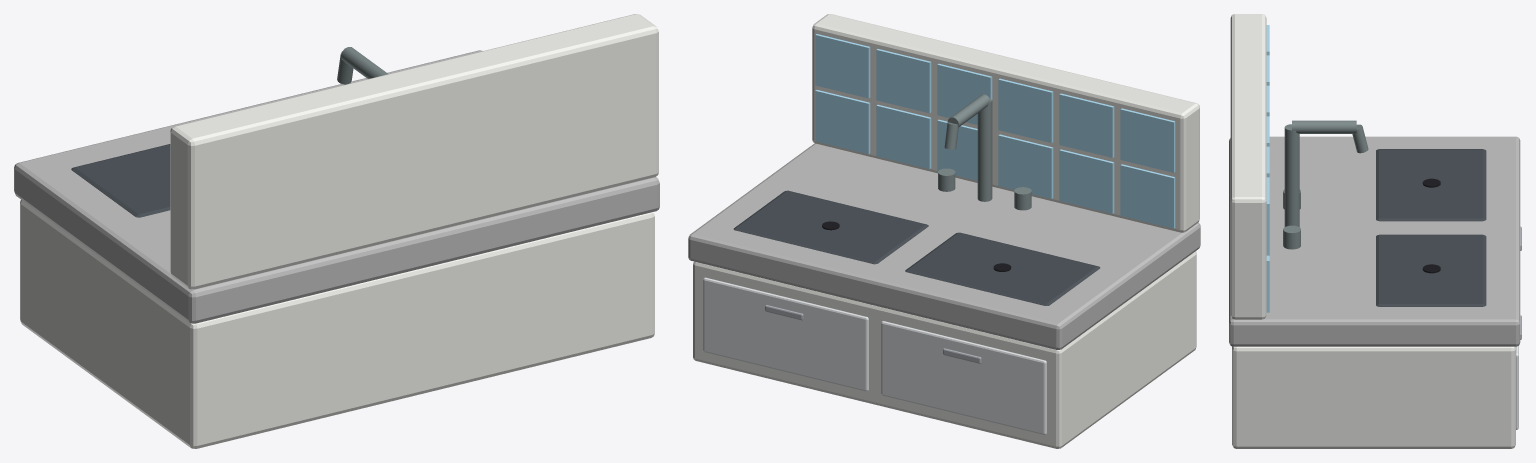
Rendered from kitchen_sink.fbx.
The picture shows the model from 3 angles, left to right: view 1: azimuth 30°, elevation 25°; view 2: azimuth 150°, elevation 25°; view 3: azimuth 270°, elevation 25°; orthographic projection. The views are drawn at different scales.
Visible parts, largest first — view 1: The Kitchen Sink; view 2: The Kitchen Sink; view 3: The Kitchen Sink.
Part boxes in pixels (bbox=[...]): The Kitchen Sink: bbox=[14, 14, 659, 448]; The Kitchen Sink: bbox=[688, 14, 1200, 448]; The Kitchen Sink: bbox=[1229, 14, 1521, 448].
Bounding box in the file's own units: 2.94 × 1.86 × 1.95.
